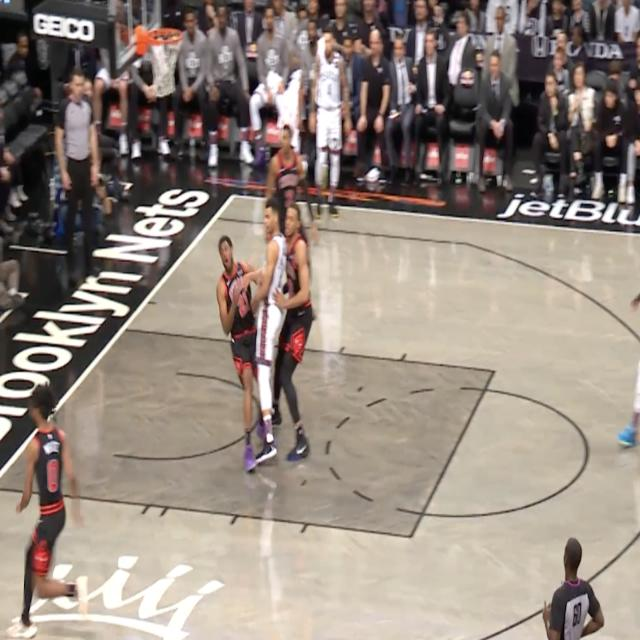Foul: (206, 194, 285, 467)
